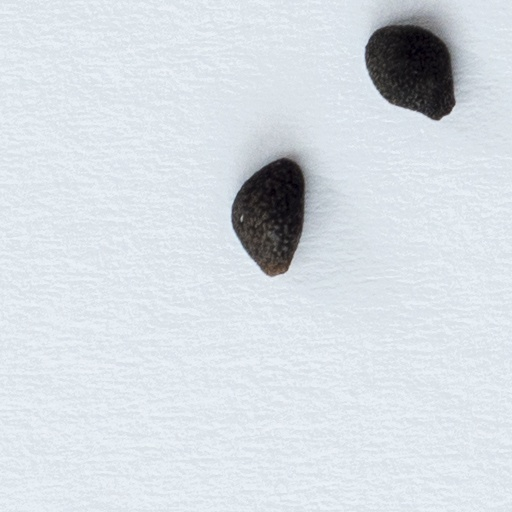Convolvulus-poly: (230, 157, 307, 279), (363, 25, 455, 120)
